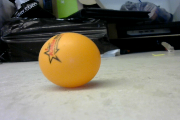PingPongBall: (38, 33, 101, 87)
